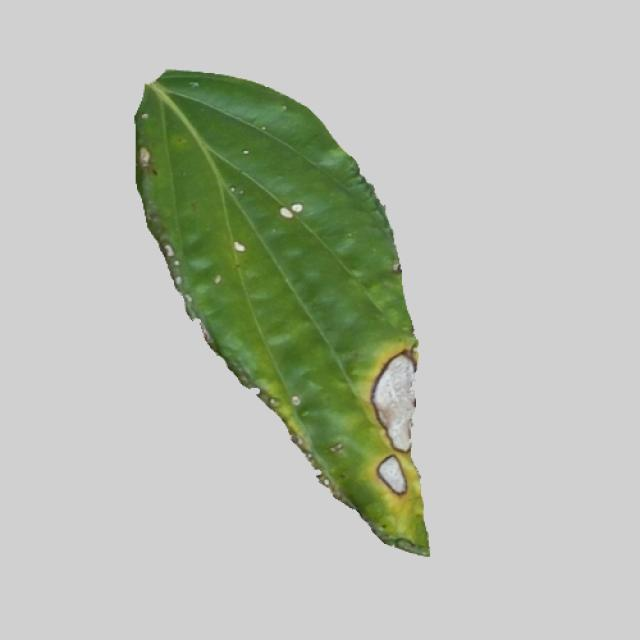leaf-blight: (106, 69, 439, 558)
